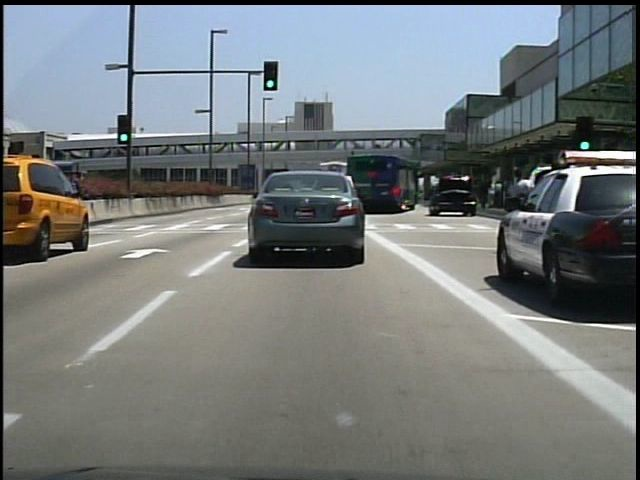person: (497, 164, 534, 260), (63, 173, 83, 222), (45, 168, 61, 224)
